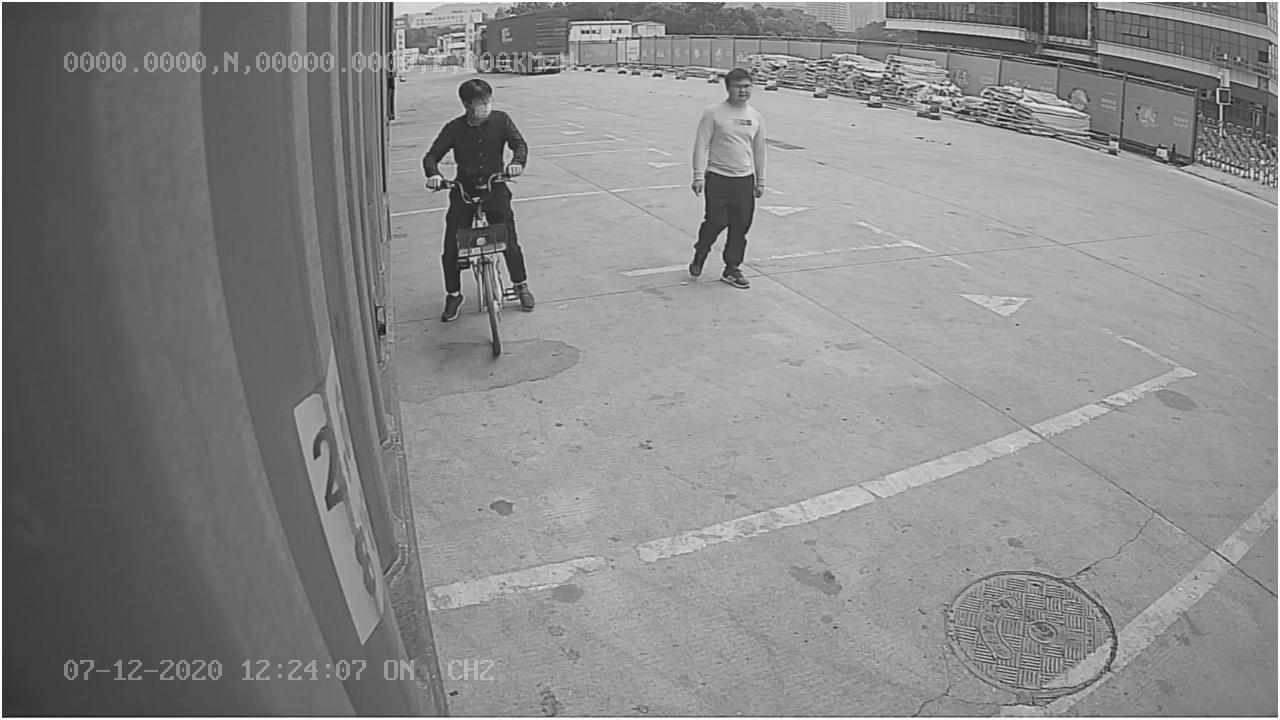person: (681, 65, 773, 293)
